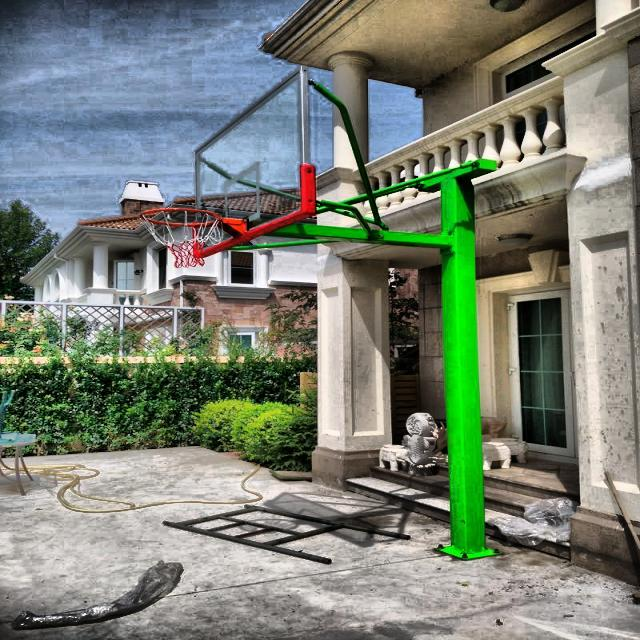rim: (140, 207, 226, 268)
